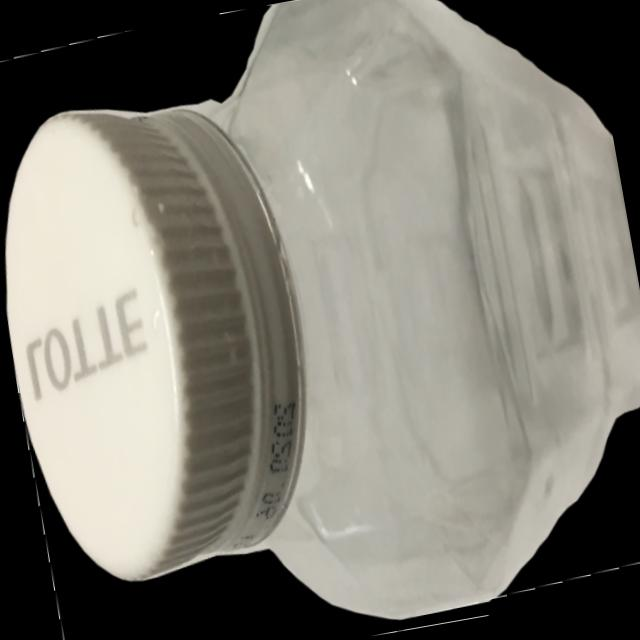plastic: (1, 0, 640, 621)
